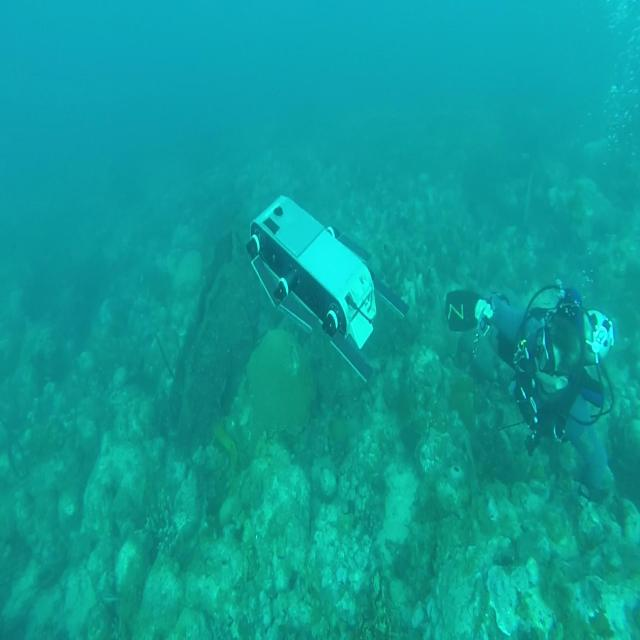human: (444, 280, 616, 457)
